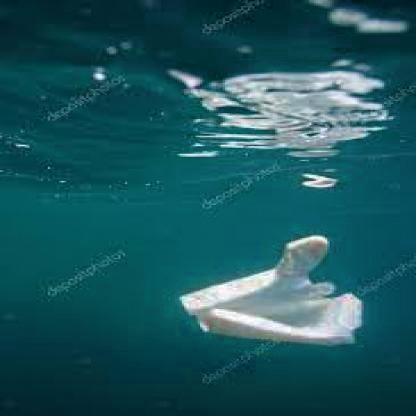pbag: (175, 232, 364, 348)
